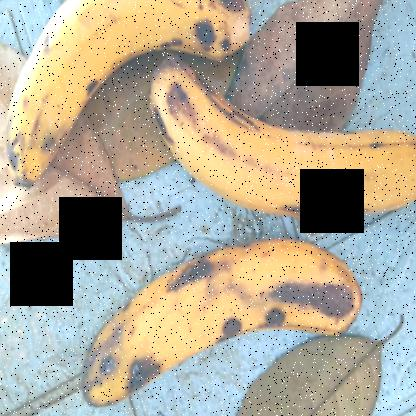overripe: (70, 227, 374, 415), (4, 0, 255, 192)
ripe: (148, 88, 415, 243)
